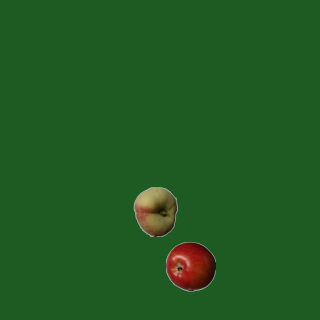Apple Braeburn: (165, 241, 215, 291)
Peach Flat: (130, 186, 180, 236)
